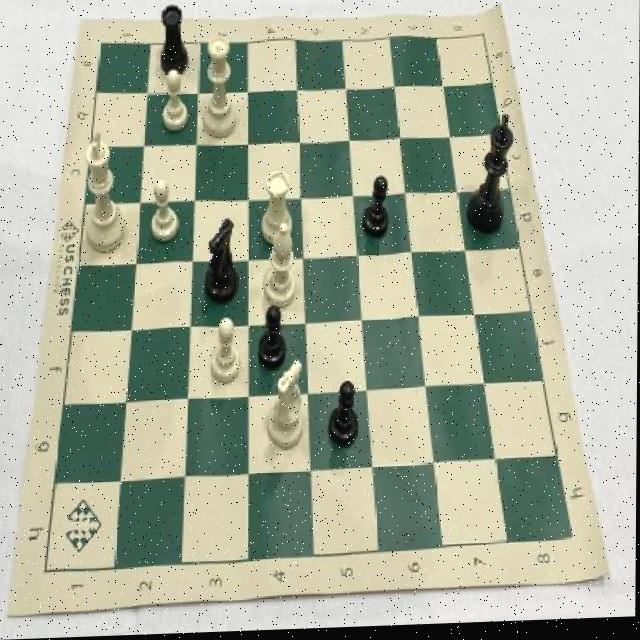black-bishop: (465, 111, 521, 241)
black-king: (201, 213, 242, 312)
black-knight: (325, 375, 363, 453), (359, 172, 394, 246), (255, 302, 290, 374)
black-queen: (159, 0, 191, 82)
black-rook: (258, 223, 304, 315)
white-bishop: (80, 124, 133, 261)
white-king: (264, 356, 310, 459)
white-knight: (157, 65, 193, 137), (146, 178, 183, 248), (210, 318, 244, 394)
white-pawn: (198, 30, 243, 144)
white-queen: (258, 168, 296, 253)
